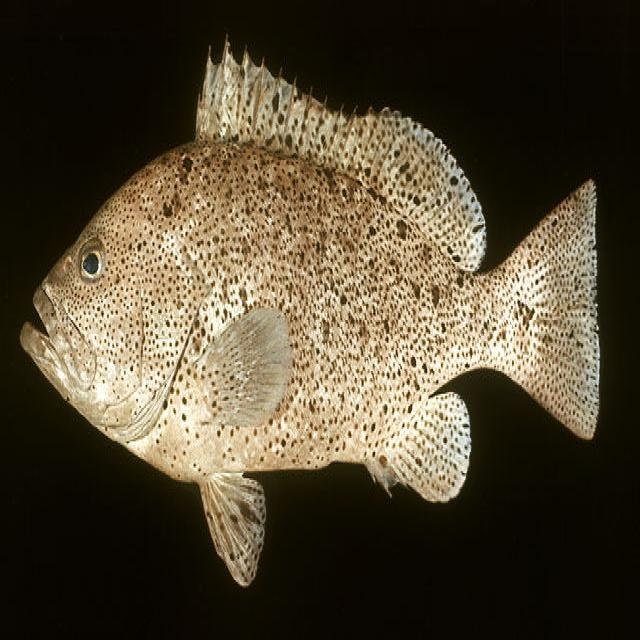ikan: (19, 32, 601, 587)
